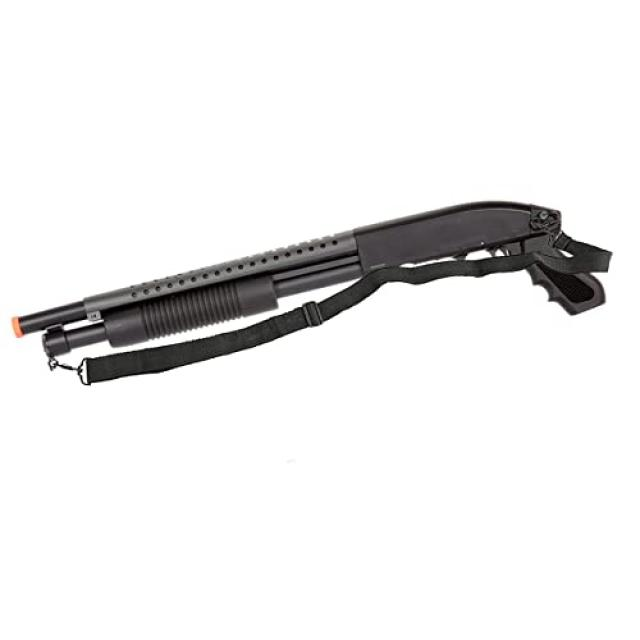ShotGun: (17, 201, 612, 358)
